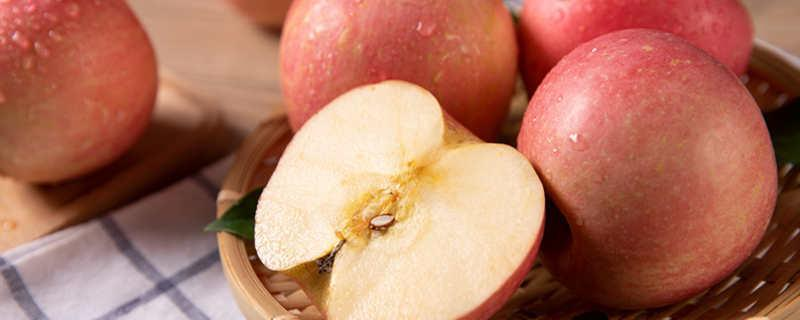apple: (515, 24, 781, 302), (251, 80, 544, 320), (278, 1, 515, 138), (1, 1, 161, 188), (511, 2, 757, 92)
